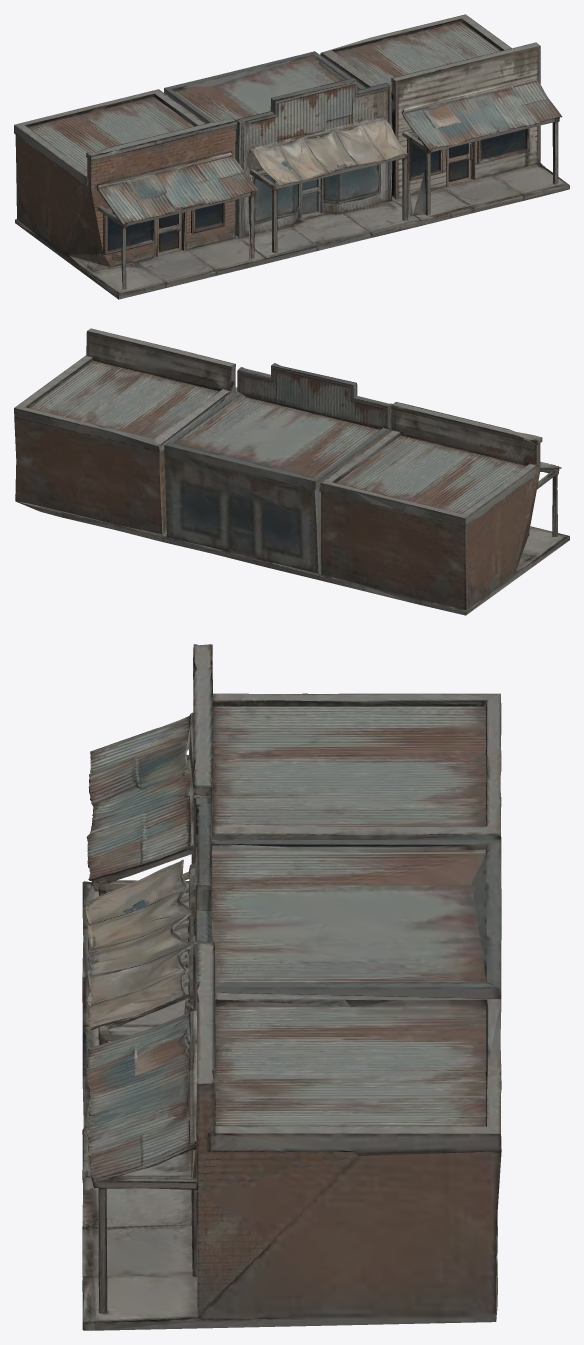
The model's file is shop_strip.glb.
The picture shows the model from 3 angles, top to bottom: view 1: azimuth 30°, elevation 25°; view 2: azimuth 150°, elevation 25°; view 3: azimuth 270°, elevation 25°; orthographic projection. The views are drawn at different scales.
Size of the model in its own units: 1.9 by 0.5372 by 0.764.
1 material, 1 textured.
